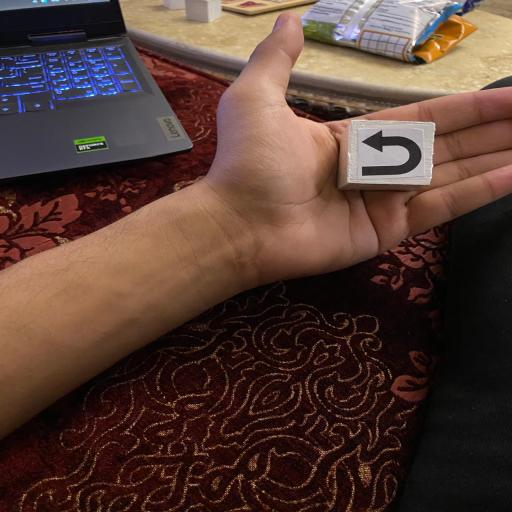Undo: (337, 117, 438, 189)
